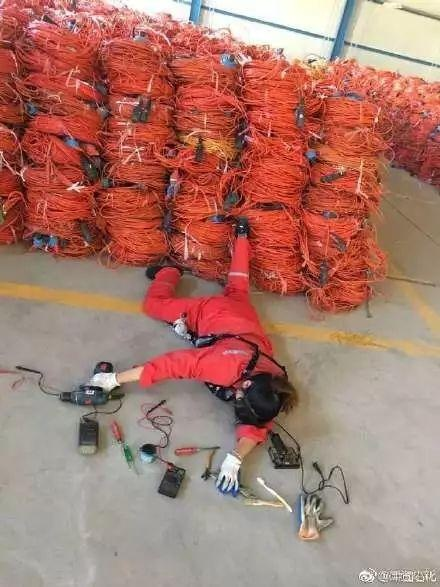falling: (76, 225, 305, 500)
